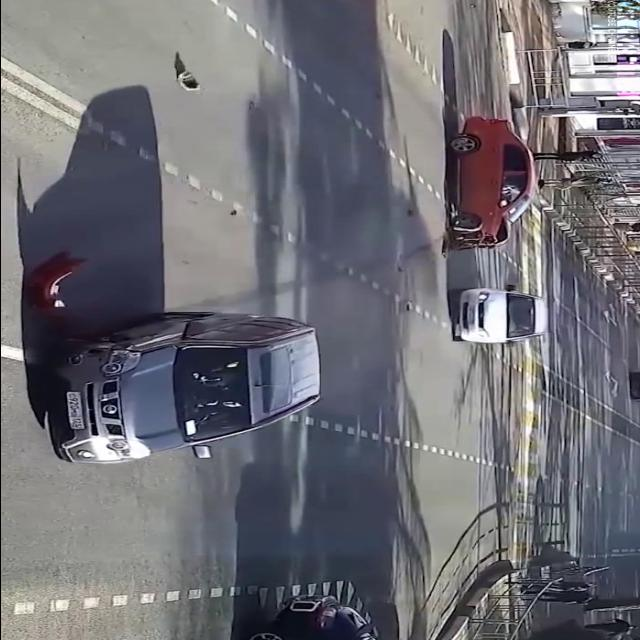accident: (3, 242, 334, 474), (426, 110, 546, 266)
